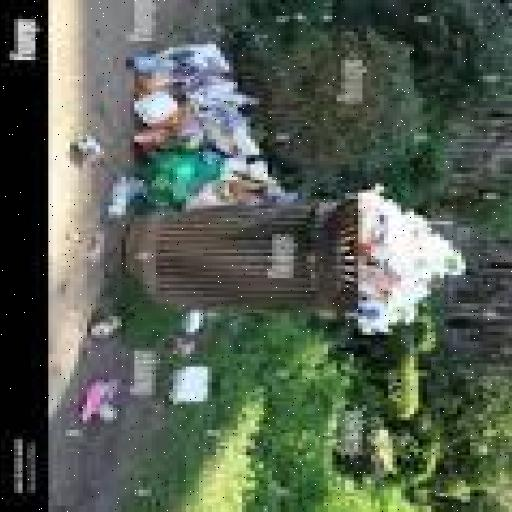poubelle_pleine: (107, 172, 475, 368)
